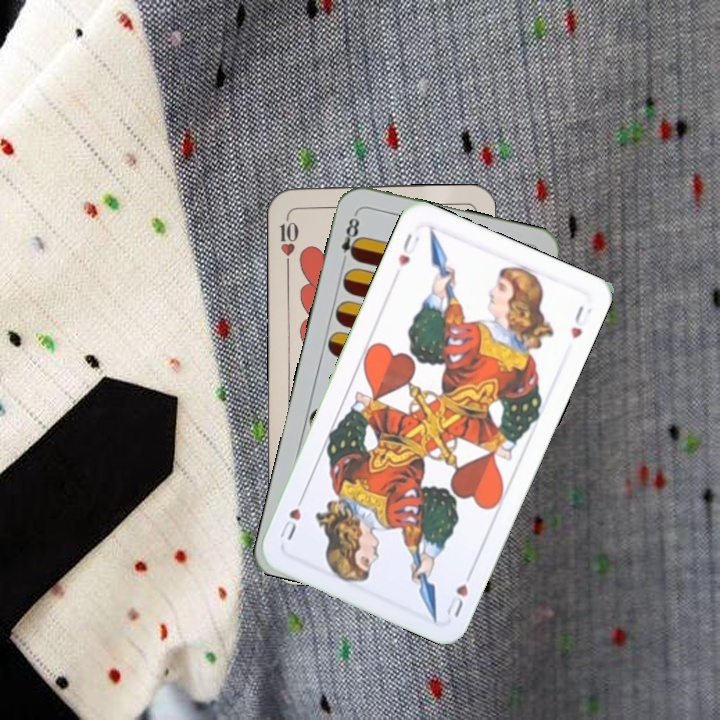E8: (337, 209, 363, 267)
H10: (275, 210, 301, 269)
HU: (440, 565, 476, 620), (394, 229, 423, 269)
